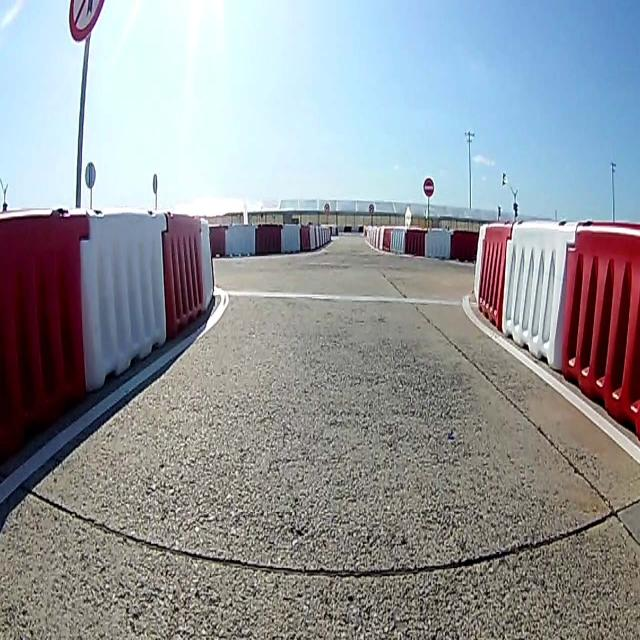girisyok: (424, 176, 434, 197)
